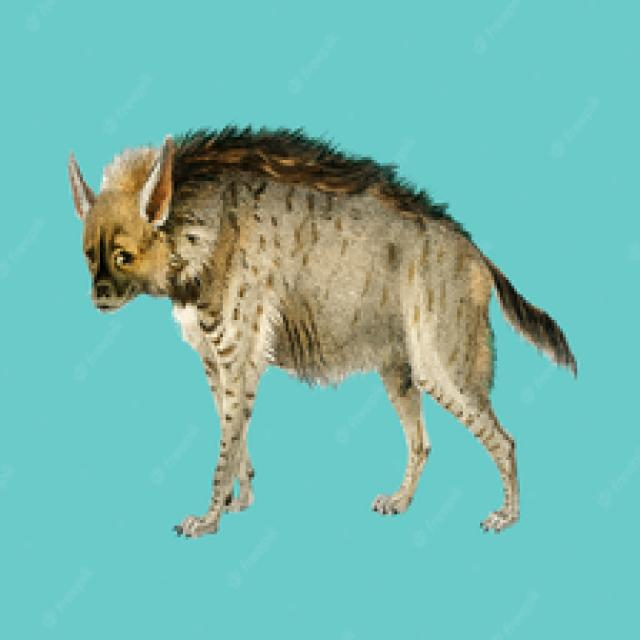hyena: (70, 115, 587, 566)
